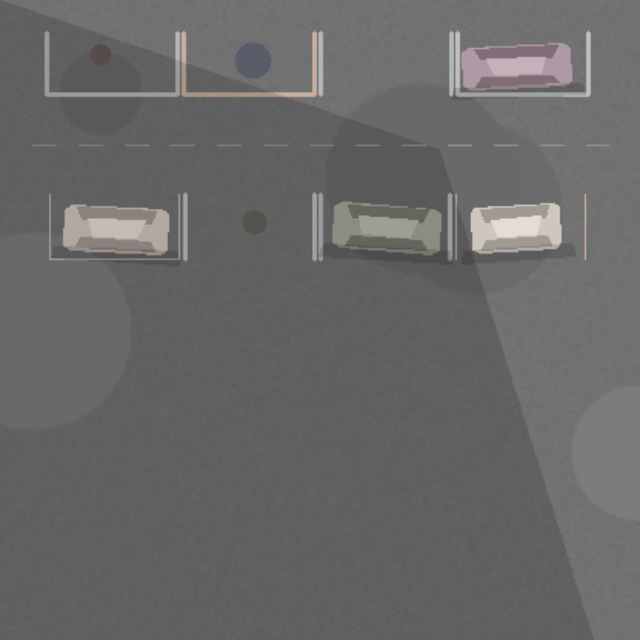space-empty: (185, 194, 314, 258), (46, 32, 177, 94), (183, 32, 314, 94), (320, 32, 451, 94)
space-occupied: (455, 194, 585, 258), (49, 194, 178, 258), (320, 194, 449, 258), (457, 32, 588, 94)
